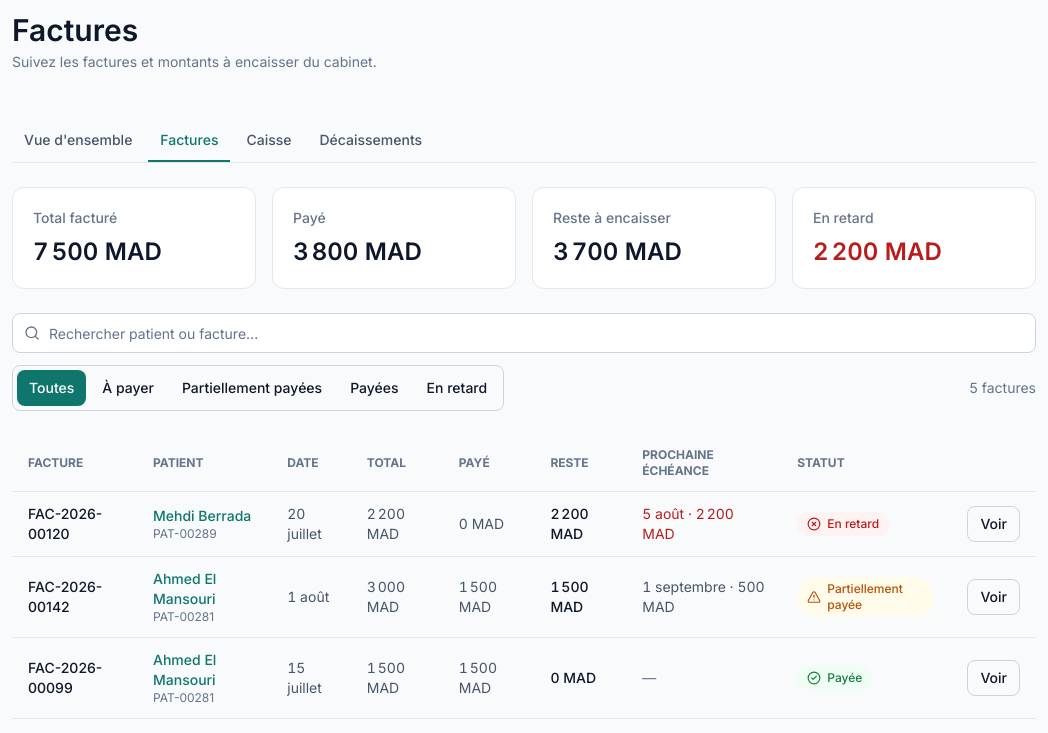
Test case: GlobalInvoicesPage › 'Payées' filter matches only paid invoices
This screenshot has width=1048, height=733.
Click the button "Payées".
click(374, 388)  # box [338, 370, 410, 406]
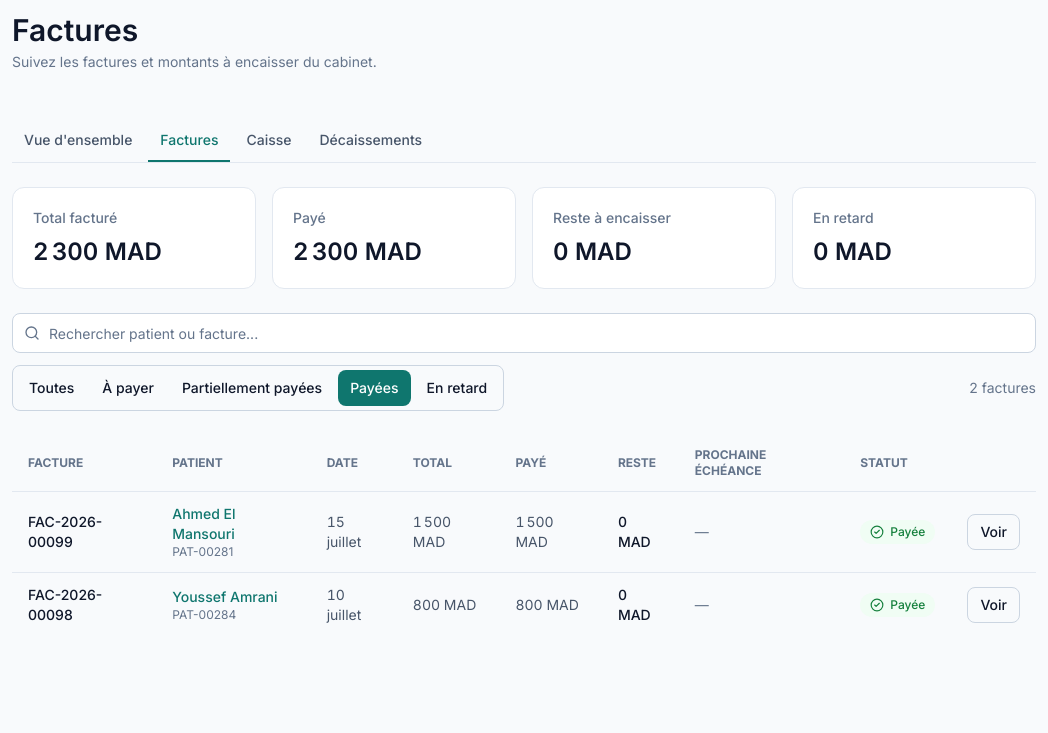
Now the text "2 factures" is shown, box [969, 378, 1036, 398]
